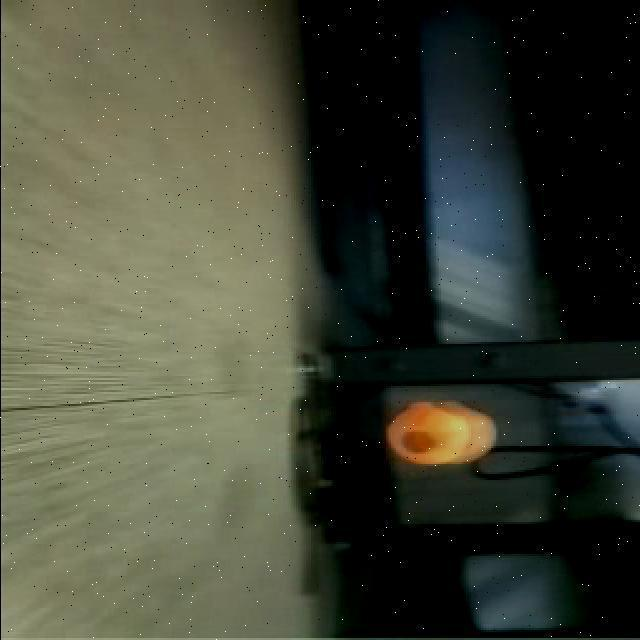ping-pong-ball: (372, 402, 495, 472)
